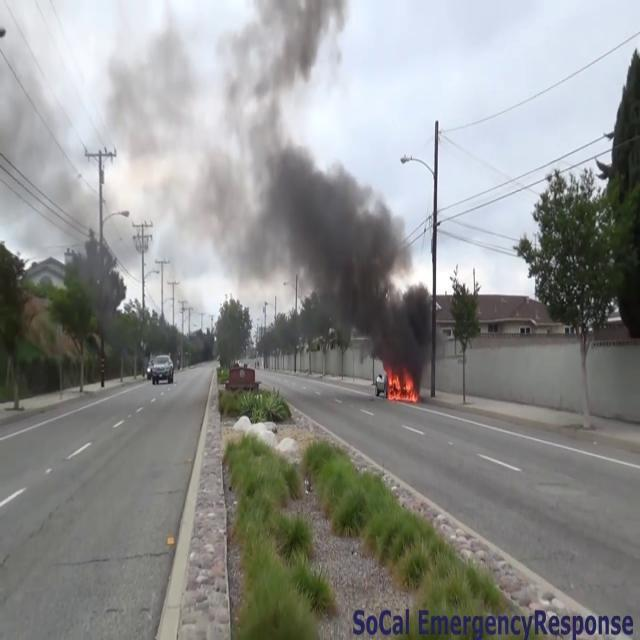Fire: (386, 361, 420, 406)
Smoke: (187, 0, 426, 348), (0, 0, 233, 253)
